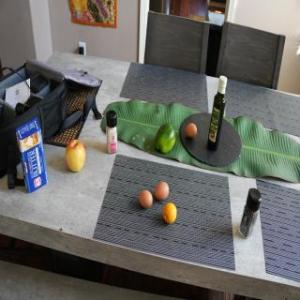bell_pepper: (154, 120, 176, 156)
egg: (154, 182, 170, 200), (139, 190, 153, 208), (186, 123, 198, 138)
